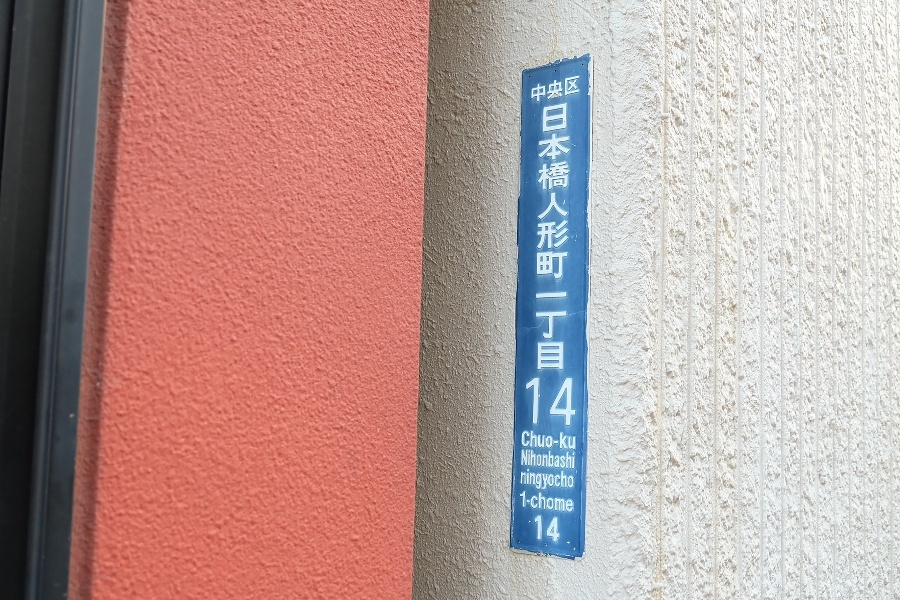text: (545, 100, 560, 374), (561, 100, 571, 374), (540, 100, 544, 374), (529, 375, 544, 427), (545, 375, 560, 427), (561, 375, 576, 427), (545, 515, 561, 545), (545, 75, 560, 104), (561, 75, 576, 104), (531, 75, 544, 104), (529, 469, 544, 491), (545, 469, 560, 491), (529, 491, 544, 513), (545, 491, 560, 513), (534, 515, 544, 545), (529, 430, 544, 450), (545, 430, 560, 450), (561, 430, 576, 450), (529, 449, 544, 469), (545, 449, 560, 469), (561, 469, 574, 491), (561, 449, 575, 469), (561, 491, 573, 513), (520, 491, 528, 513), (525, 375, 528, 427), (521, 469, 528, 491), (521, 430, 528, 450), (521, 449, 528, 469), (577, 75, 581, 104), (577, 375, 579, 427)
